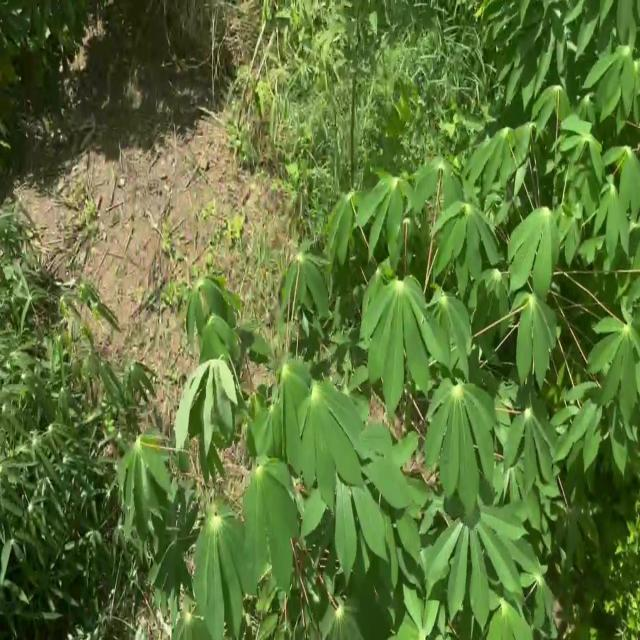Maleza: (207, 0, 442, 136), (606, 503, 640, 640)
Mosca: (180, 595, 213, 625), (345, 245, 363, 268)
